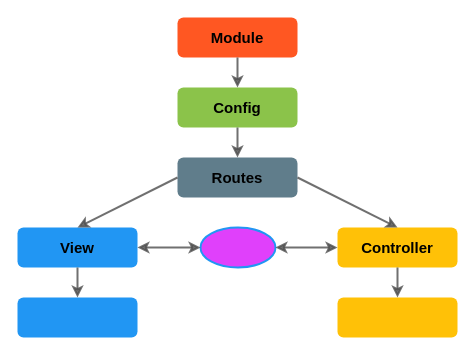
This 474x354 diagram has some shape labels left out. Each missing label, with the centre of its shape:
"$scope" belongs at [237,247].
"Directives" belongs at [77,317].
"Factory, Services etc" belongs at [397,317].
